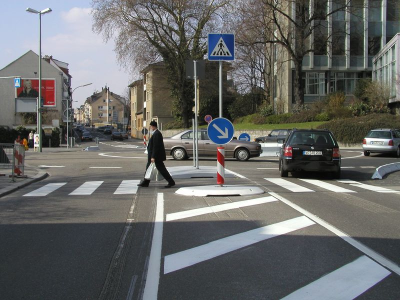crosswalk: (208, 34, 234, 59)
